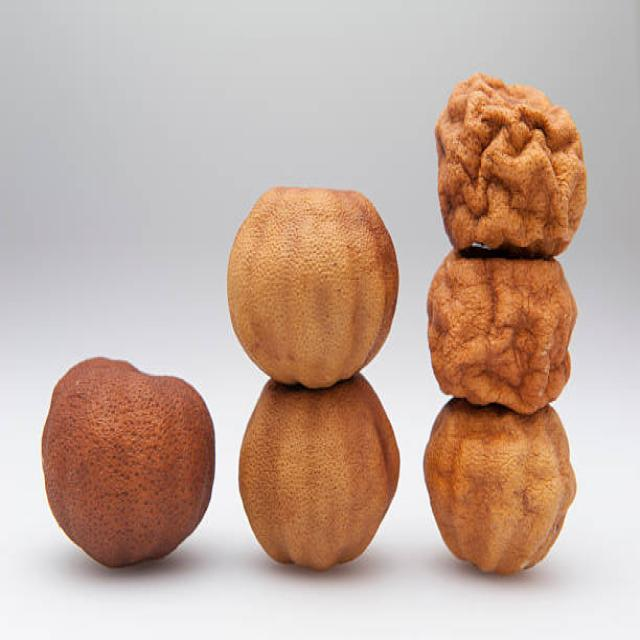overripe: (36, 348, 222, 571), (223, 173, 401, 393), (235, 376, 403, 576), (427, 66, 592, 262), (420, 402, 578, 576), (427, 252, 582, 416)
